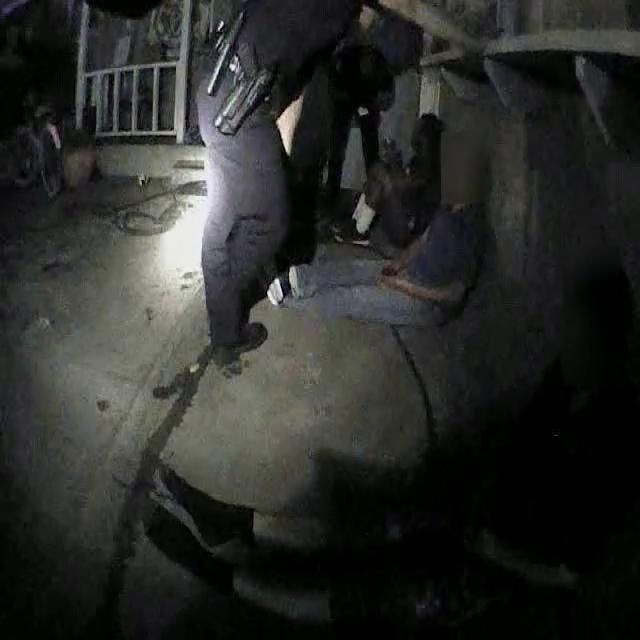gun: (207, 31, 283, 143)
